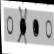correct: (32, 17, 40, 39)
not correct: (16, 3, 29, 47)
